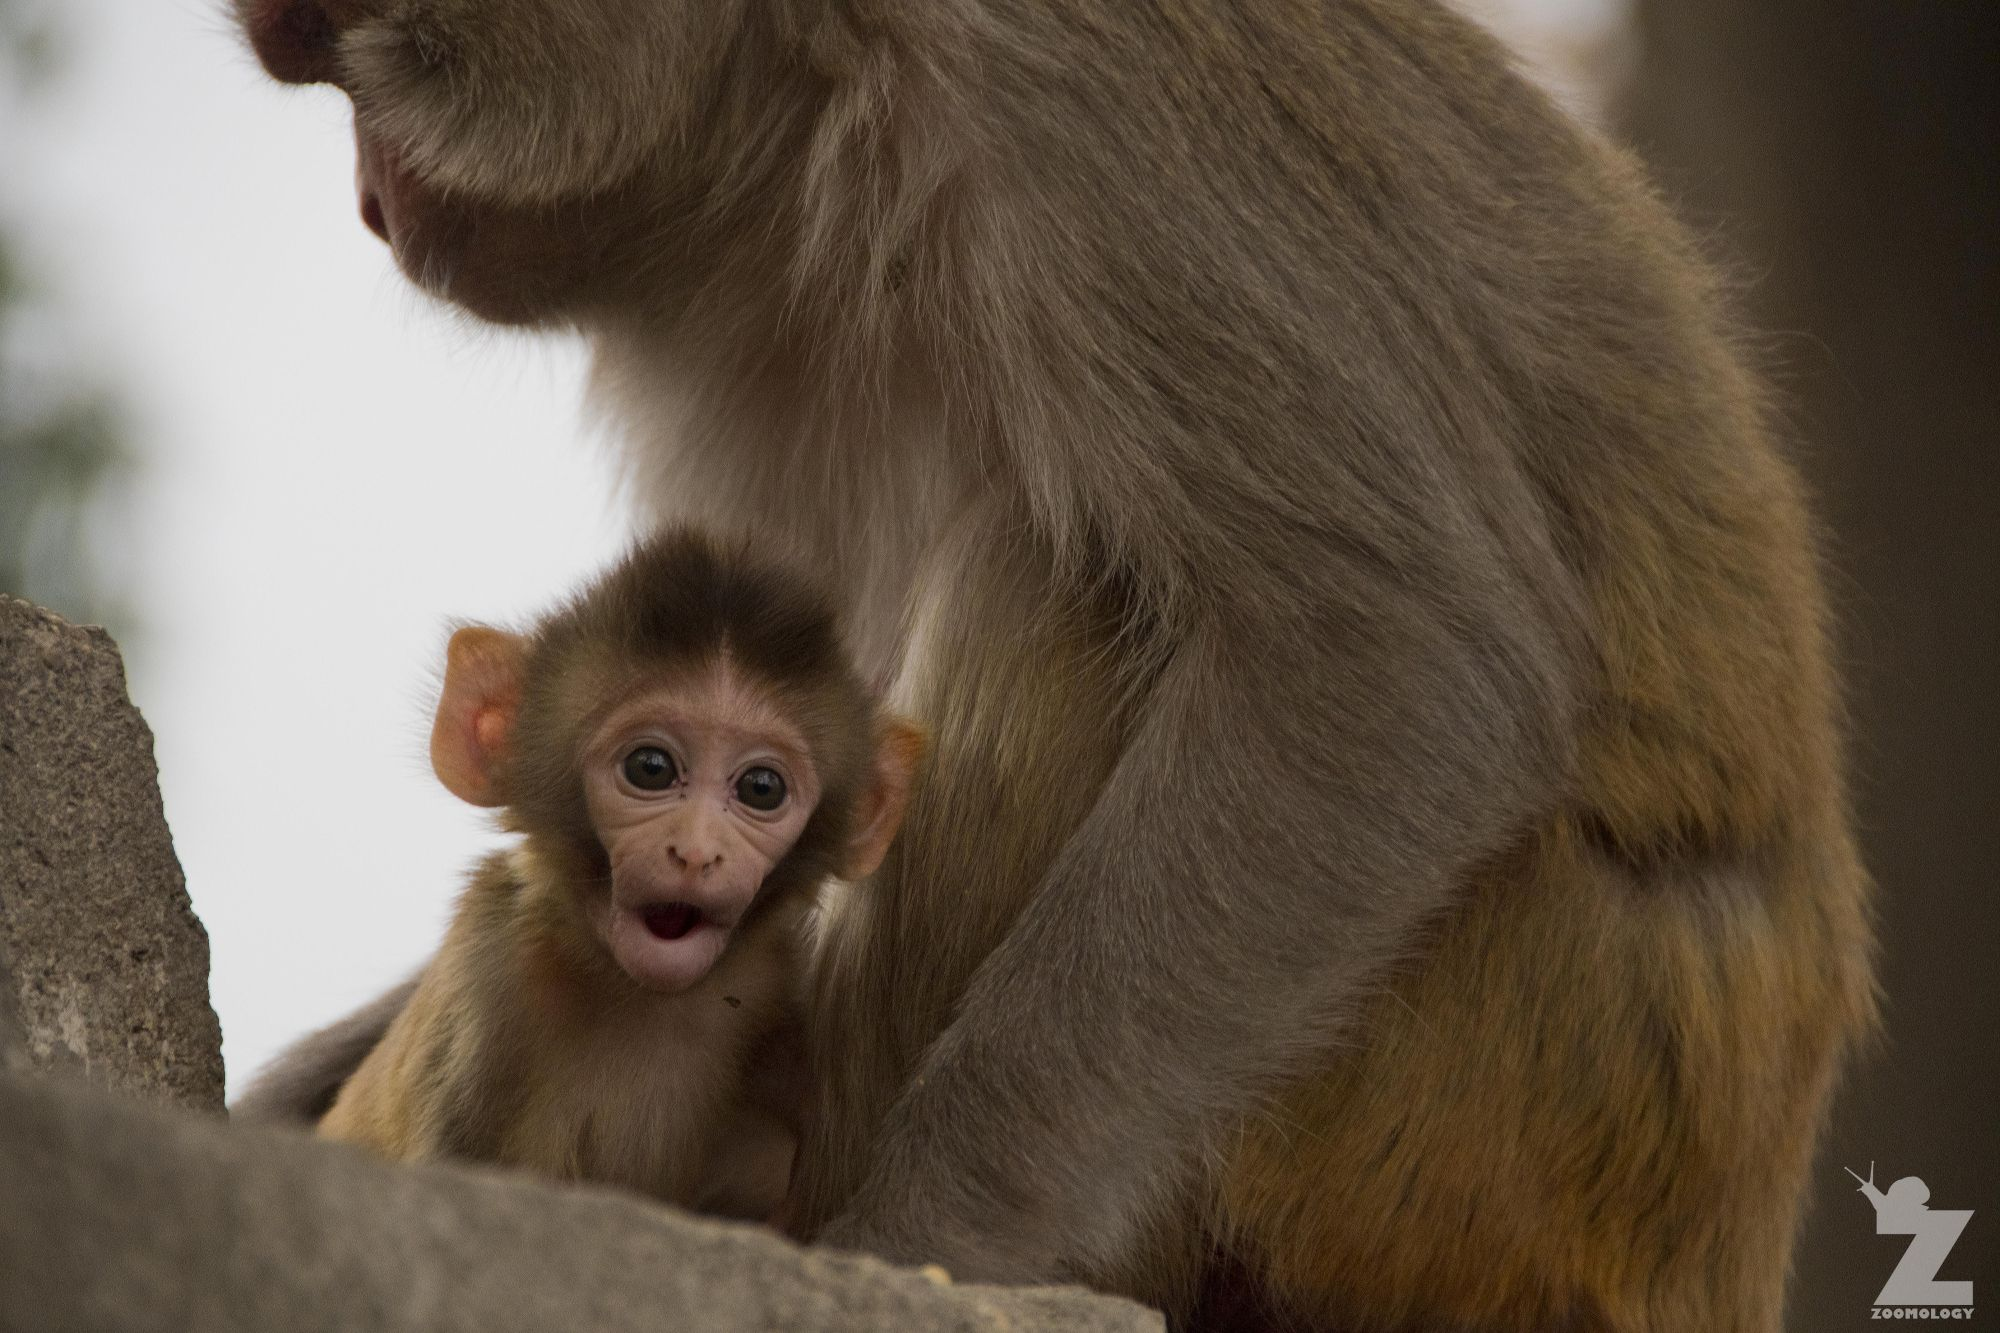monkey: (216, 4, 1868, 1333), (415, 519, 928, 1276)
